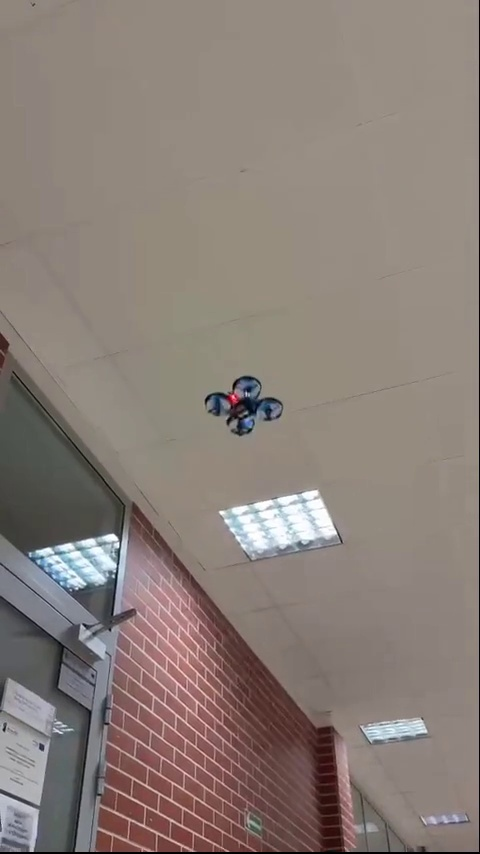drone: (206, 378, 279, 437)
